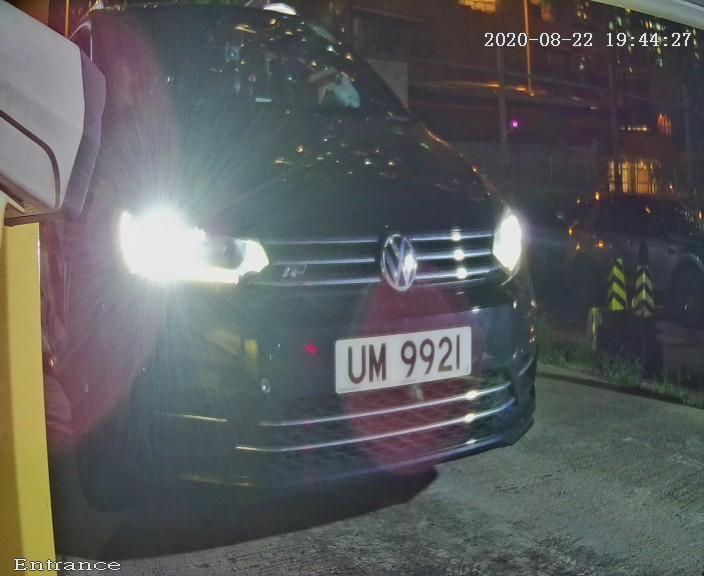Car: (19, 13, 566, 525)
License Plate: (291, 299, 522, 417)
